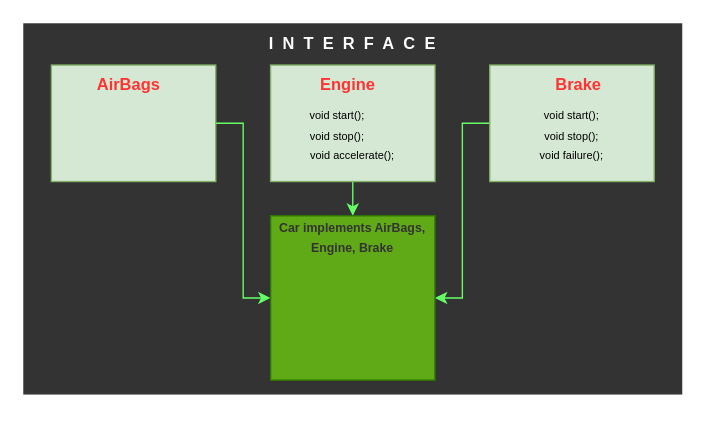
Image size: 706x421. Some labels were removed from this diagram. Each missing label, with the box of its shape:
void deploy(); void failure();: (50, 64, 216, 182)
void deploy(); void failure(); void start(); void stop(); void accelerate();: (269, 214, 435, 380)
